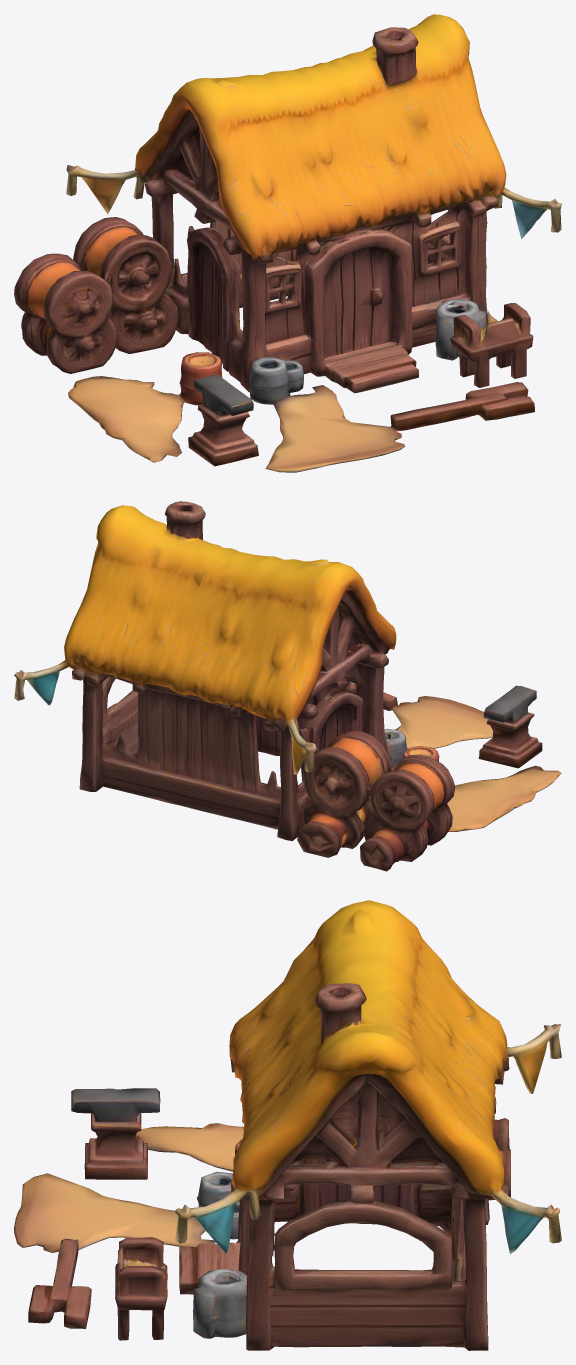
File: upgrade.glb
3 renders of one model, top to bottom at view 1: azimuth 30°, elevation 25°; view 2: azimuth 150°, elevation 25°; view 3: azimuth 270°, elevation 25°, orthographic. The views are drawn at different scales.
Visible parts, largest first — view 1: Mesh_0; view 2: Mesh_0; view 3: Mesh_0.
Part boxes in pixels (x1,y1,x2,y2): Mesh_0: [14, 14, 561, 472]; Mesh_0: [14, 501, 561, 871]; Mesh_0: [14, 900, 561, 1350].
Size of the model in its own units: 1.87 by 1.15 by 1.74.
Materials: 1 (1 with a texture image).
